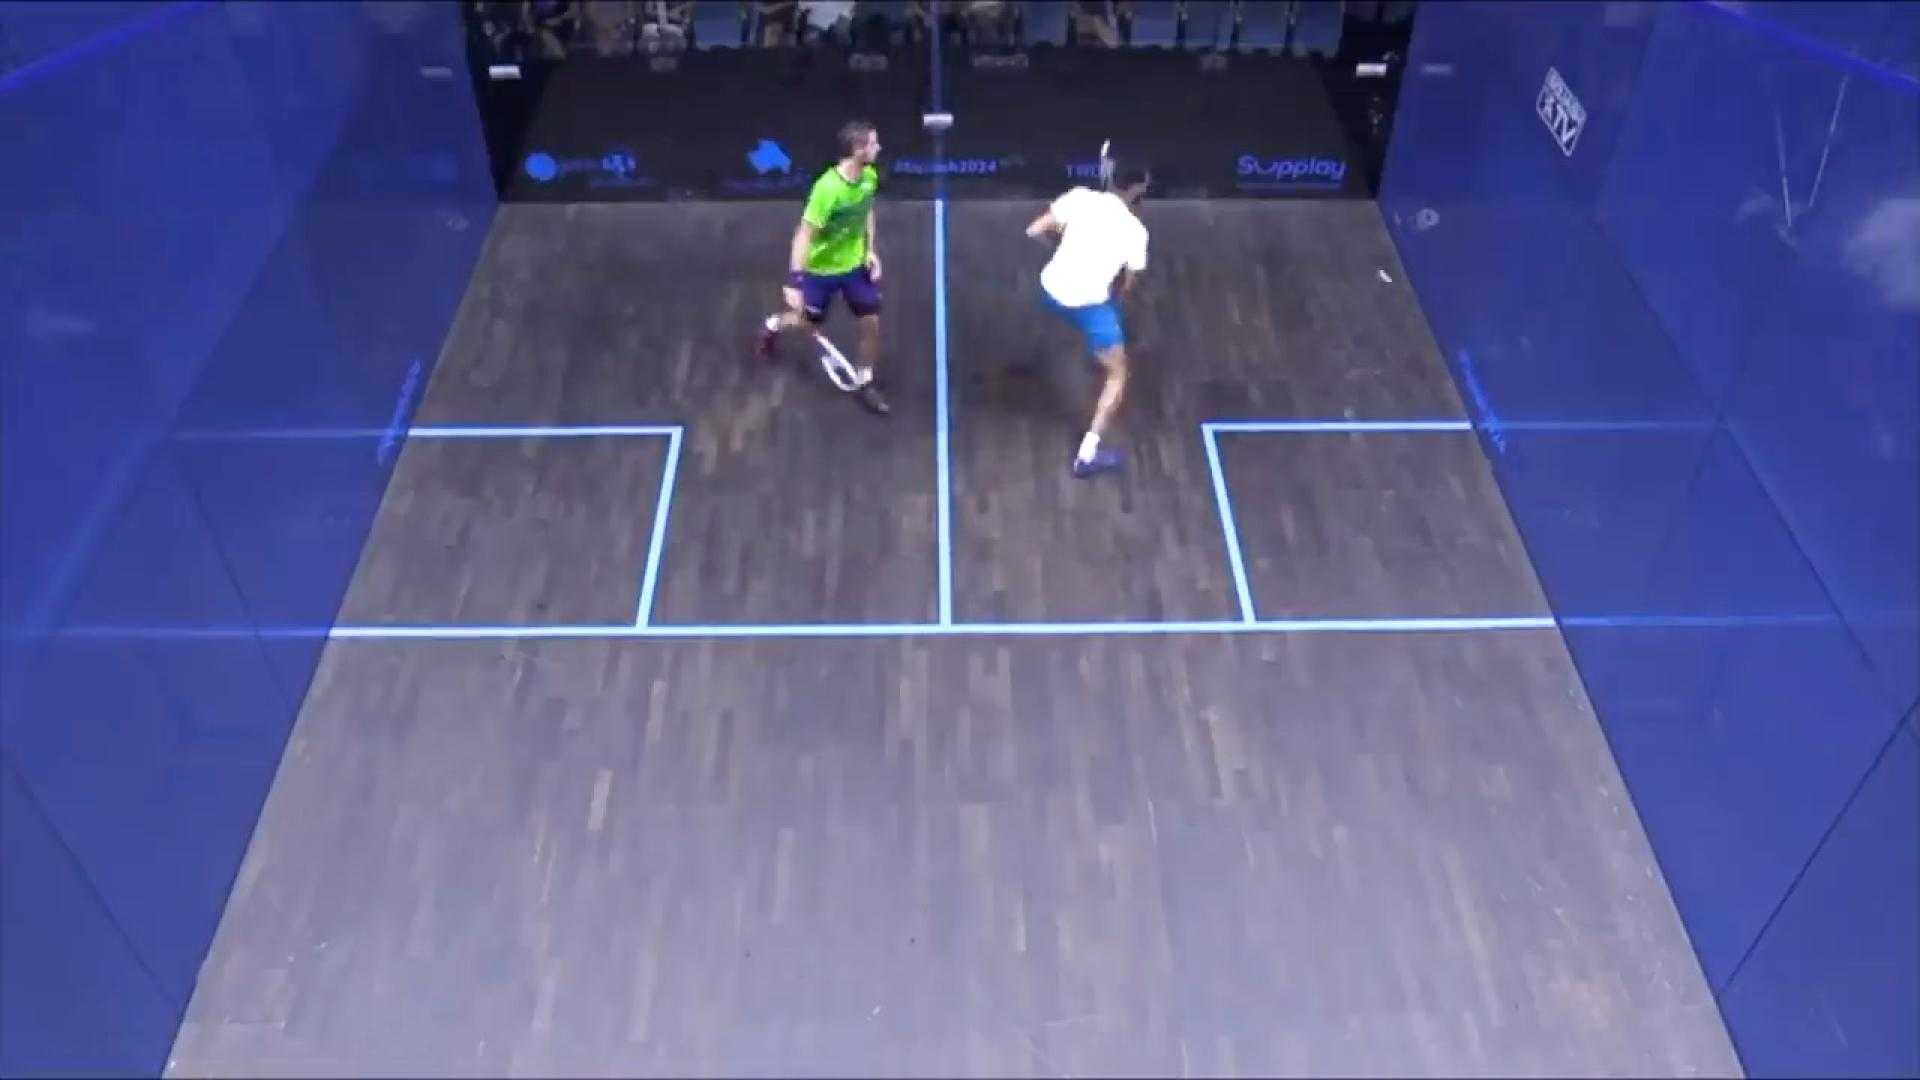Squash-Ball: (1370, 262, 1410, 298)
